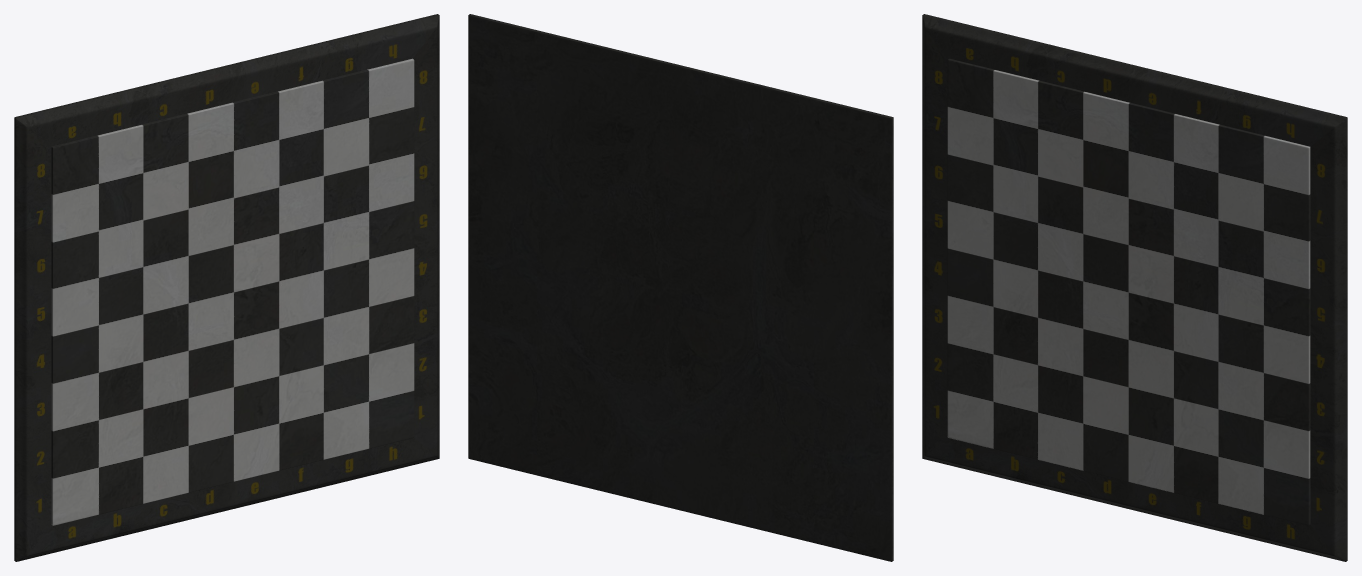
The model's file is tablero_9x9.glb.
3 views of the same model, side by side, from view 1: azimuth 30°, elevation 25°; view 2: azimuth 150°, elevation 25°; view 3: azimuth 330°, elevation 25° (orthographic).
Parts seen in each view (by area): view 1: Node1; view 2: Node1; view 3: Node1.
Part boxes in pixels (x1,y1,x2,y2): Node1: (14,14,439,561); Node1: (468,14,893,561); Node1: (922,14,1347,561).
Size of the model in its own units: 9.5 by 9.5 by 0.296.
1 material, 1 textured.
